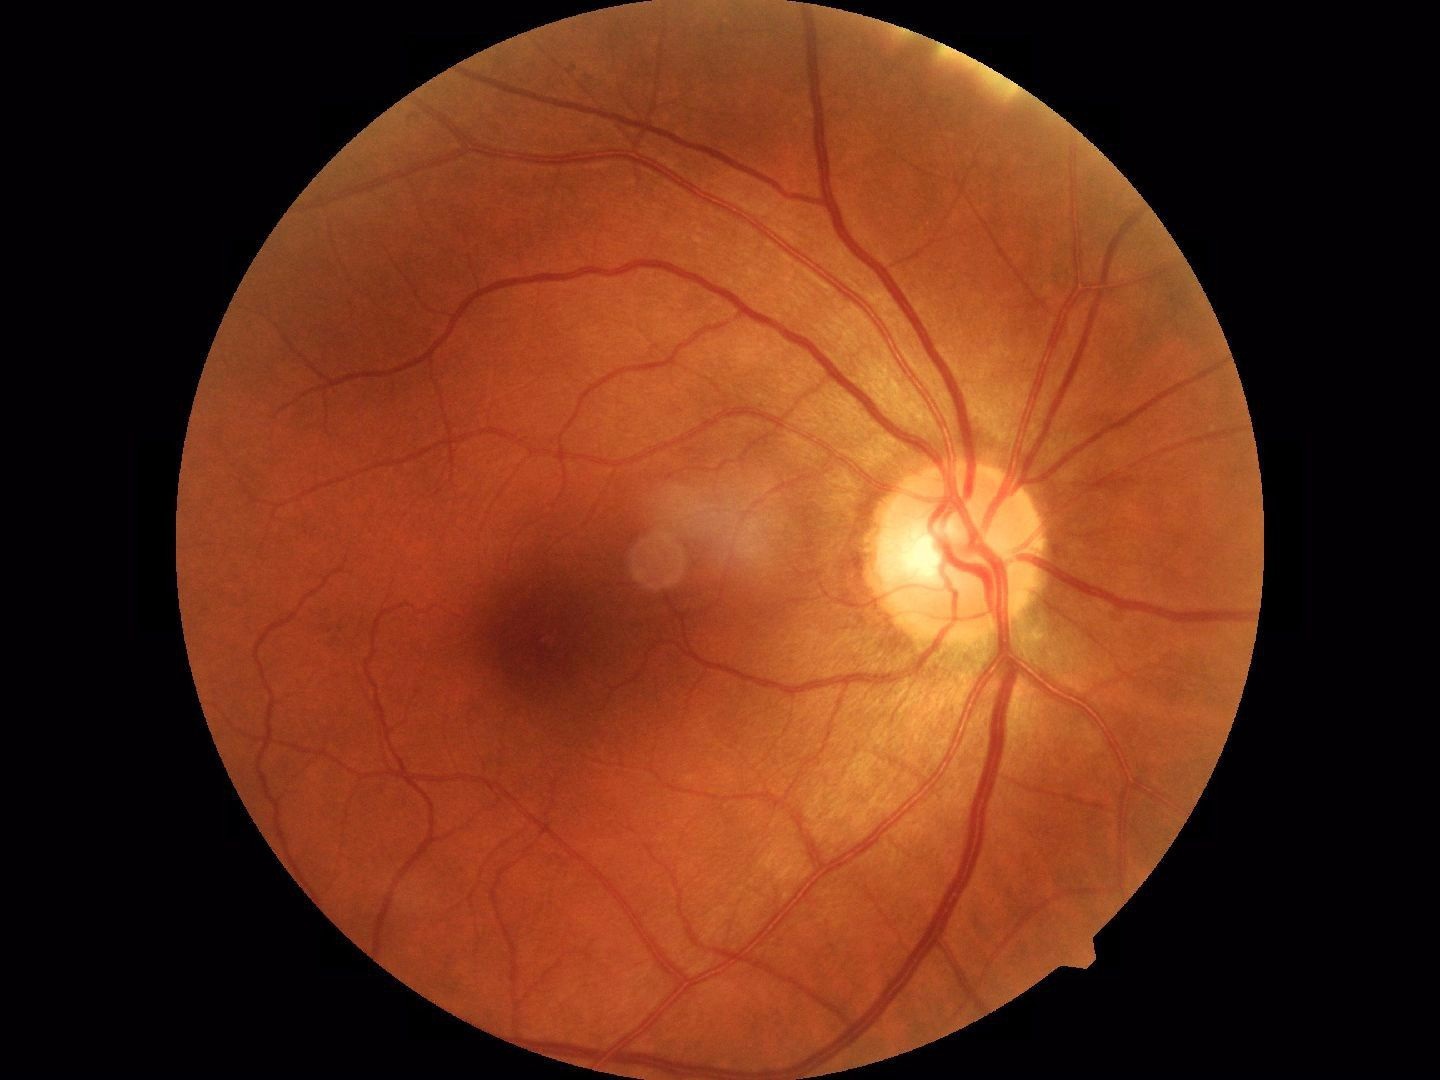Hemorrhages: (477, 549, 654, 722)
Optic-Disc: (886, 453, 1042, 651)
Venules: (791, 158, 939, 425), (895, 701, 986, 1011)
